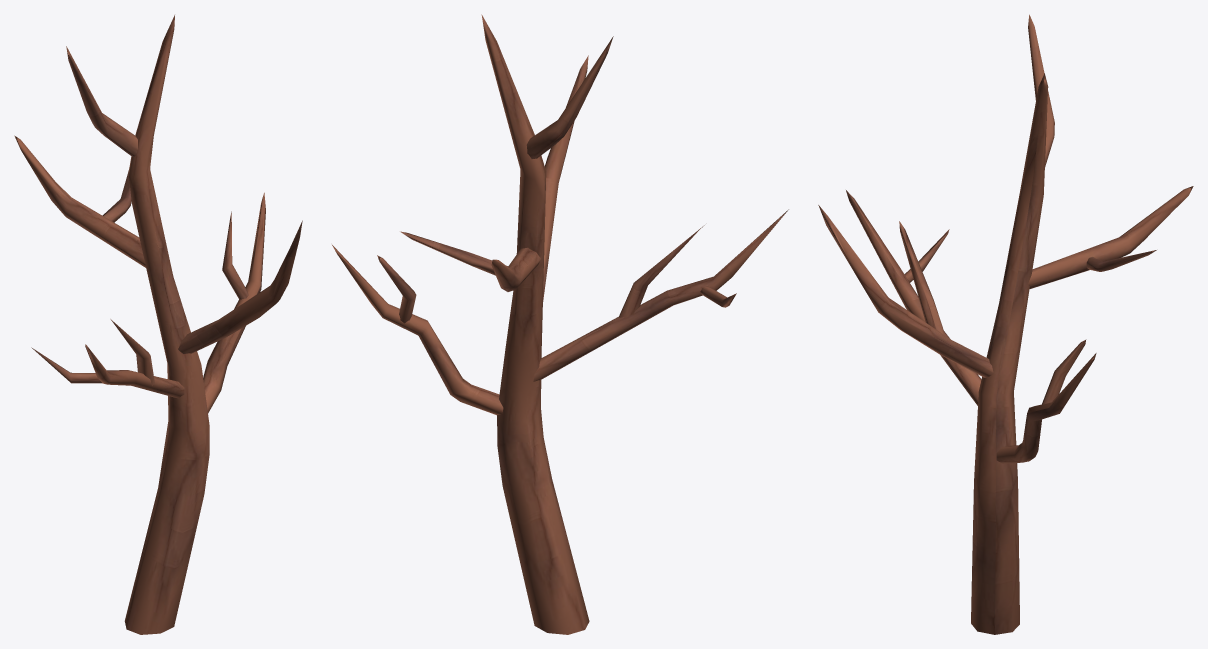
File: decor-cendre-arbrecalcine-0.glb
3 views of the same model, side by side, from view 1: azimuth 30°, elevation 25°; view 2: azimuth 150°, elevation 25°; view 3: azimuth 270°, elevation 25° (orthographic). The views are drawn at different scales.
Visible parts, largest first — view 1: decor:cendre:arbrecalcine:0; view 2: decor:cendre:arbrecalcine:0; view 3: decor:cendre:arbrecalcine:0.
Part boxes in pixels (<box>): decor:cendre:arbrecalcine:0: <box>14,15,302,634</box>; decor:cendre:arbrecalcine:0: <box>332,14,788,634</box>; decor:cendre:arbrecalcine:0: <box>818,14,1193,634</box>.
Size of the model in its own units: 1.55 by 2.8 by 1.65.
1 material, 1 textured.
